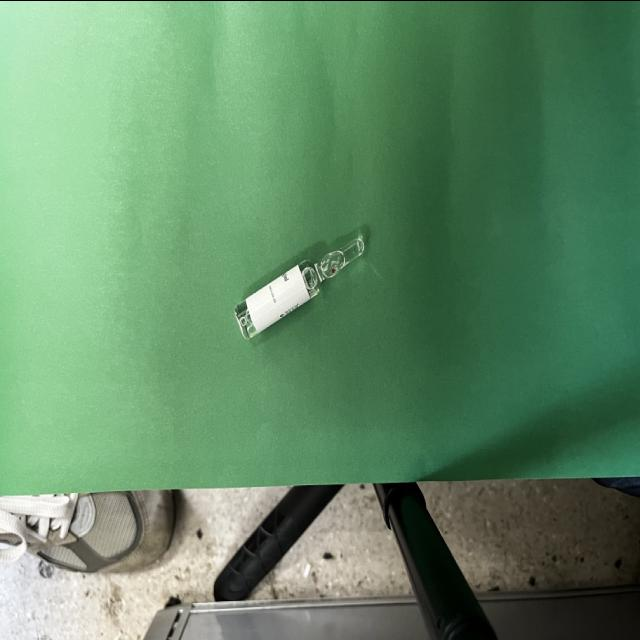Ampoules: (234, 237, 366, 339)
